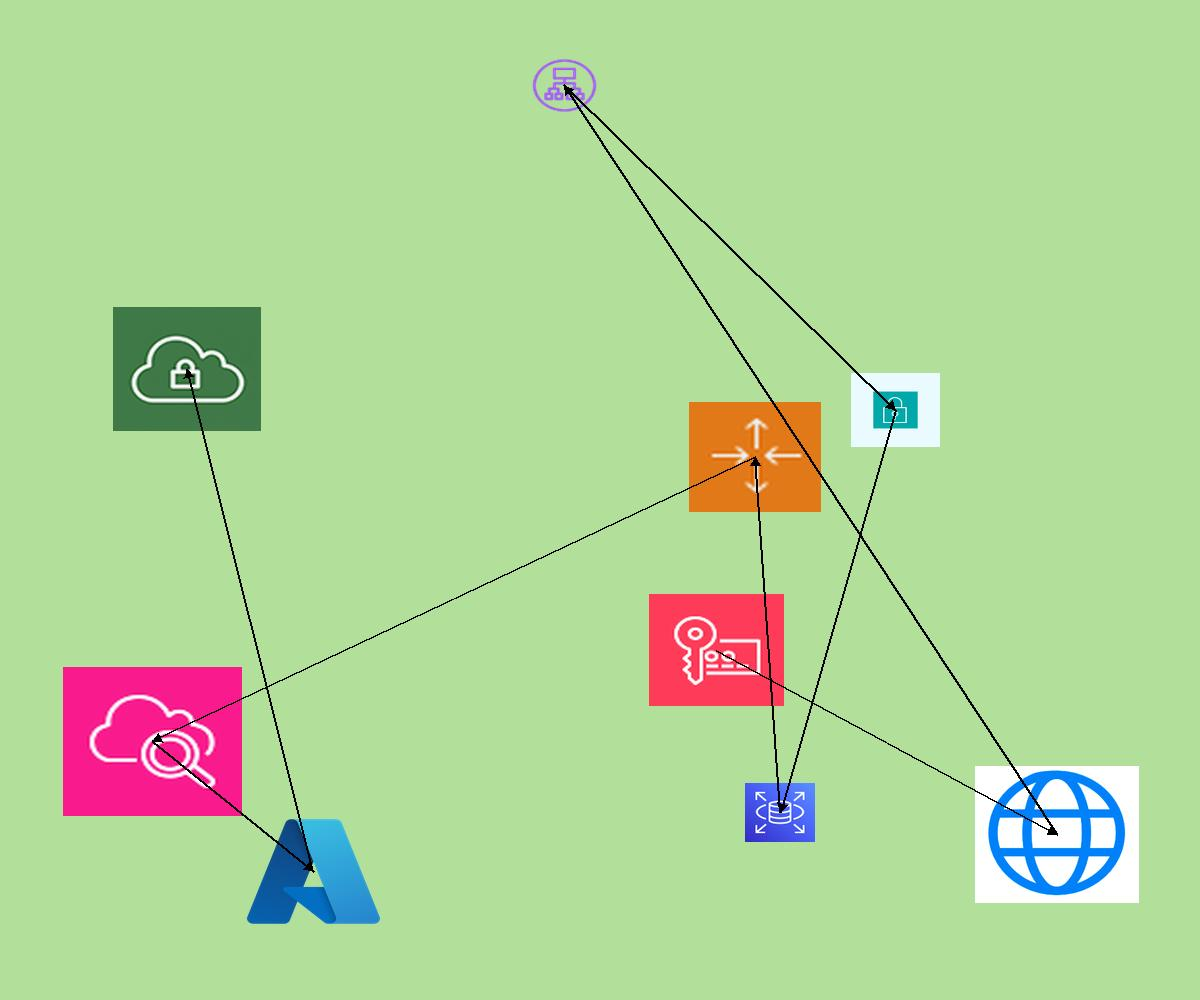AWS-CloudWatch: (63, 667, 242, 816)
AWS-Key-Management-Service: (649, 594, 784, 706)
AWS-Private-subnet: (851, 373, 940, 447)
AWS-Private_vpc: (113, 307, 261, 431)
AWS-RDS: (745, 783, 815, 842)
AWS-Res_Elastic-Load-Balancing_Application-Load-Balancer: (530, 57, 599, 114)
AWS-Scaling-group: (689, 402, 821, 512)
Azure_http: (975, 766, 1139, 903)
Azure_services: (241, 811, 386, 932)
